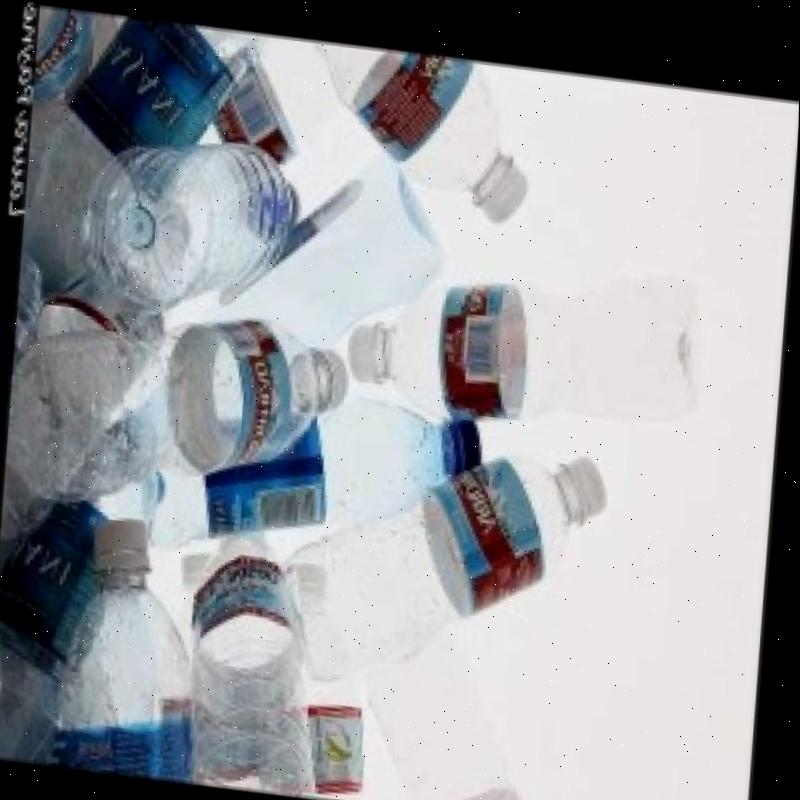botella: (284, 414, 608, 705), (5, 292, 349, 529), (343, 226, 709, 437), (139, 371, 487, 580), (196, 143, 444, 368), (0, 463, 158, 770), (173, 512, 340, 794), (296, 32, 538, 218), (81, 123, 303, 318), (58, 513, 216, 779), (64, 8, 276, 202), (20, 96, 150, 303), (276, 557, 386, 800), (208, 24, 372, 176), (38, 4, 106, 105), (449, 774, 542, 800)
